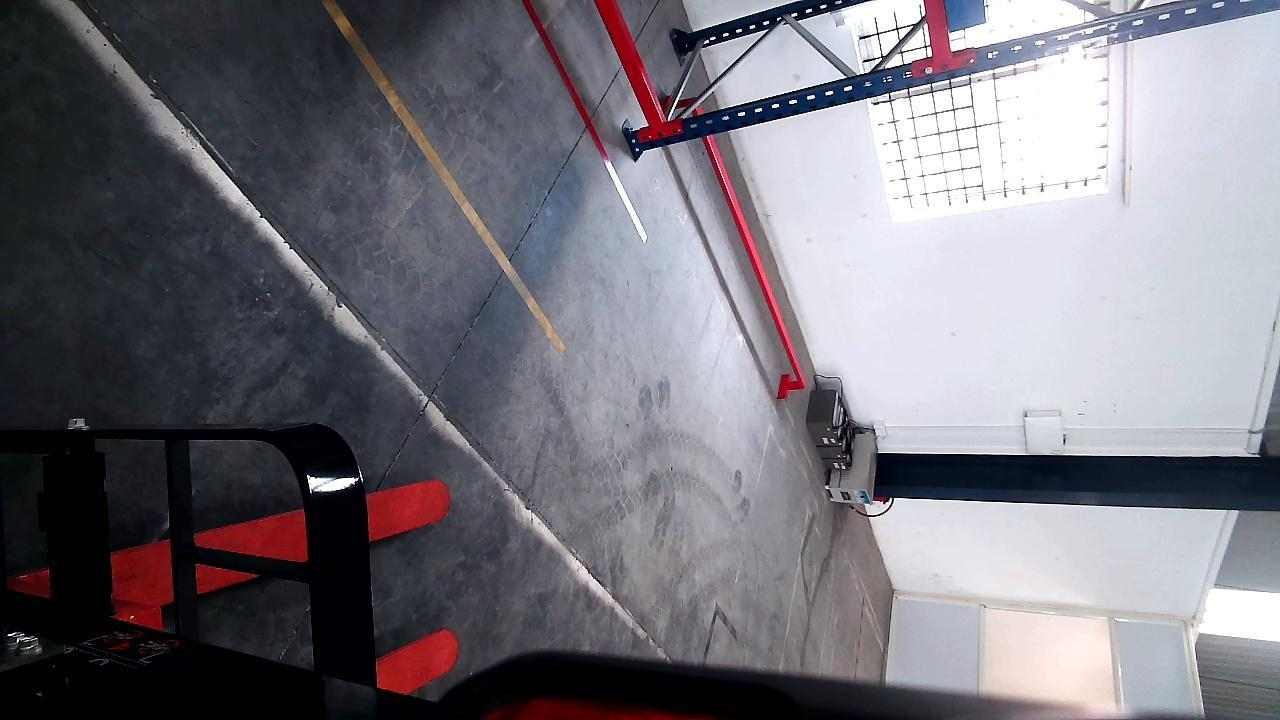red_line: (521, 2, 646, 242)
yellow_line: (322, 2, 568, 358)
